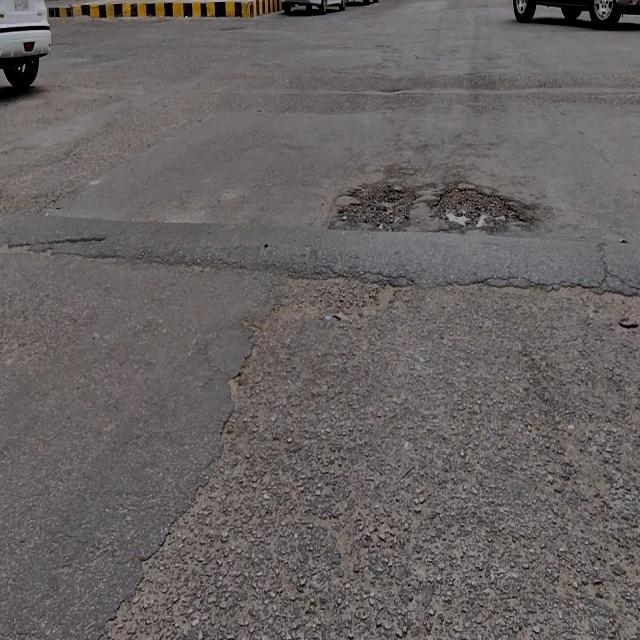Potholes: (434, 181, 528, 234), (328, 176, 419, 228)
